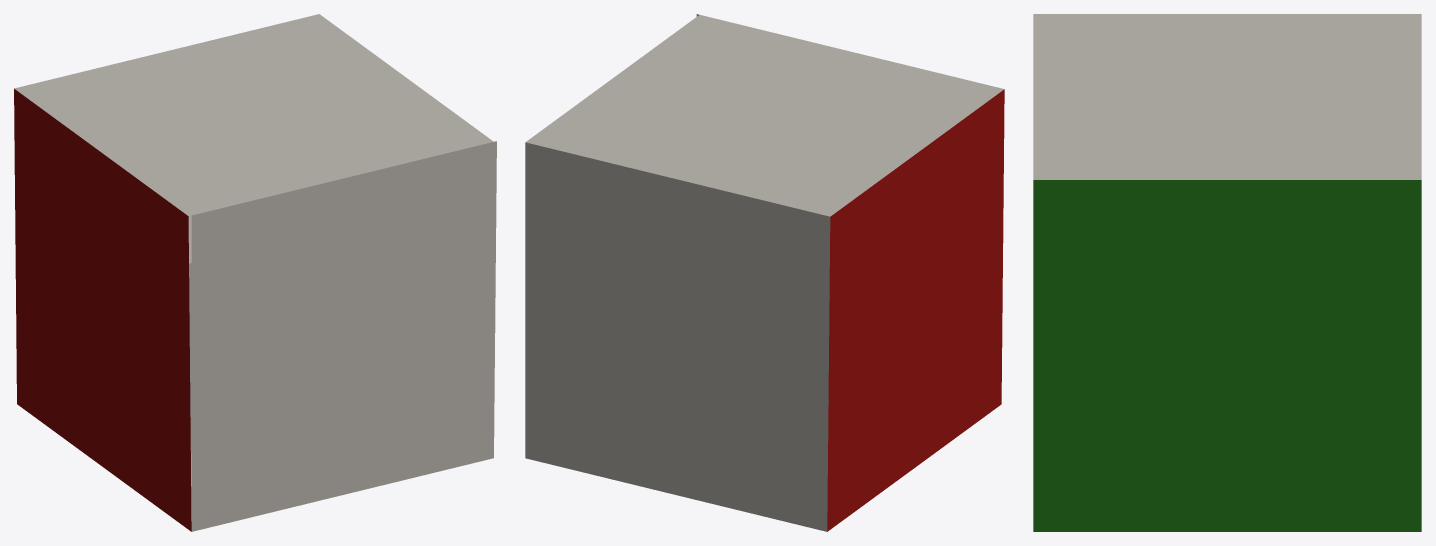
Rendered from cornellbox.obj.
3 views of the same model, side by side, from view 1: azimuth 30°, elevation 25°; view 2: azimuth 150°, elevation 25°; view 3: azimuth 270°, elevation 25° (orthographic). The views are drawn at different scales.
Parts seen in each view (by area): view 1: backWall, leftWall, ceiling, tallBox; view 2: frontWall, leftWall, ceiling; view 3: rightWall, ceiling.
Boxes of the visible parts, bbox=[...] form: backWall: bbox=[191, 141, 496, 531]; leftWall: bbox=[14, 89, 191, 531]; ceiling: bbox=[14, 14, 493, 216]; tallBox: bbox=[188, 215, 191, 452]; frontWall: bbox=[525, 142, 830, 531]; leftWall: bbox=[827, 89, 1004, 531]; ceiling: bbox=[526, 15, 1004, 216]; rightWall: bbox=[1033, 180, 1421, 531]; ceiling: bbox=[1033, 14, 1421, 179].
Size of the model in its own units: 2.04 by 2 by 2.
